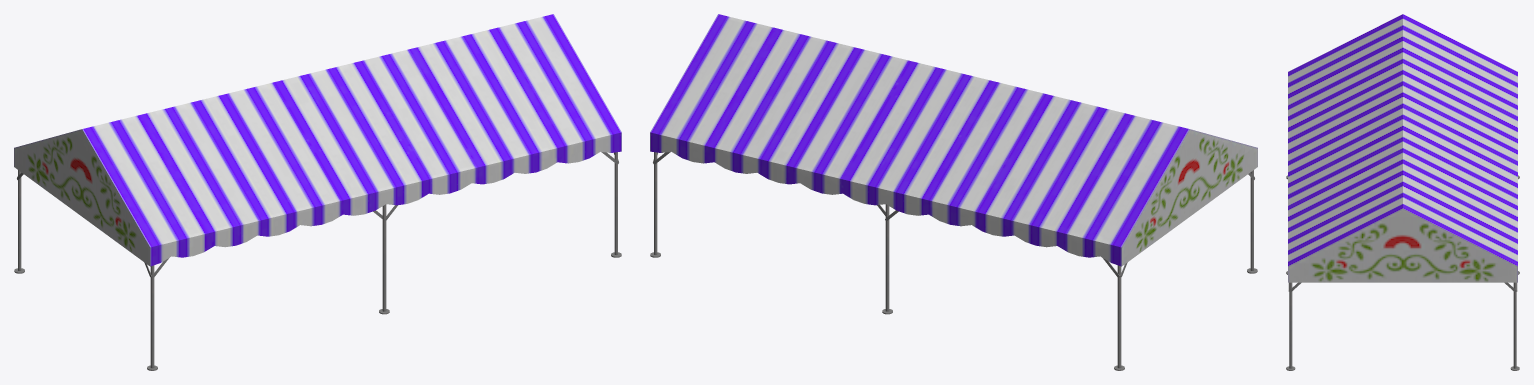
The model's file is objects_un_c01championtent02.gltf.
The picture shows the model from 3 angles, left to right: view 1: azimuth 30°, elevation 25°; view 2: azimuth 150°, elevation 25°; view 3: azimuth 270°, elevation 25°; orthographic projection. The views are drawn at different scales.
Visible parts, largest first — view 1: c01championtent02_mesh1_shape:objects_un_c01championtent02_2; view 2: c01championtent02_mesh1_shape:objects_un_c01championtent02_2; view 3: c01championtent02_mesh1_shape:objects_un_c01championtent02_2.
Part boxes in pixels (left/top/right/bottom): c01championtent02_mesh1_shape:objects_un_c01championtent02_2: left=14, top=14, right=621, bottom=370; c01championtent02_mesh1_shape:objects_un_c01championtent02_2: left=650, top=14, right=1257, bottom=370; c01championtent02_mesh1_shape:objects_un_c01championtent02_2: left=1286, top=14, right=1519, bottom=370.
Size of what is drawn, in the model's own units: 9.03 by 3.5 by 4.57.
Materials: 1 (1 with a texture image).
